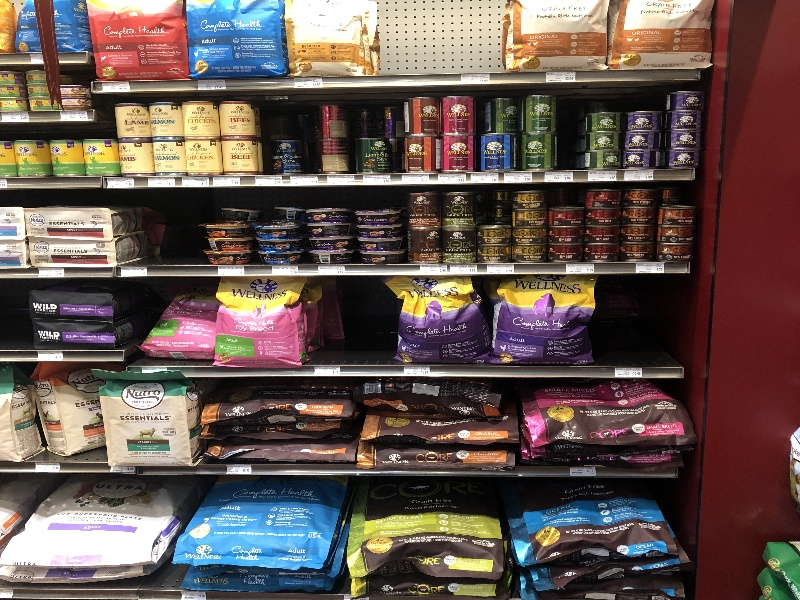void: (376, 1, 502, 77), (599, 274, 695, 369), (311, 274, 397, 366), (117, 187, 204, 263)
